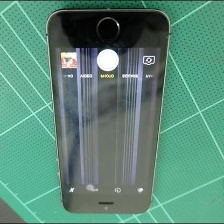phone: (41, 4, 174, 217)
